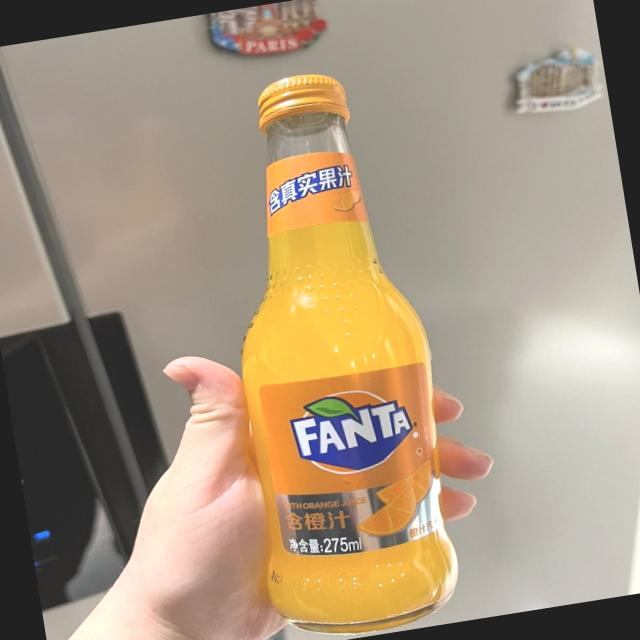bottle: (192, 61, 472, 640)
